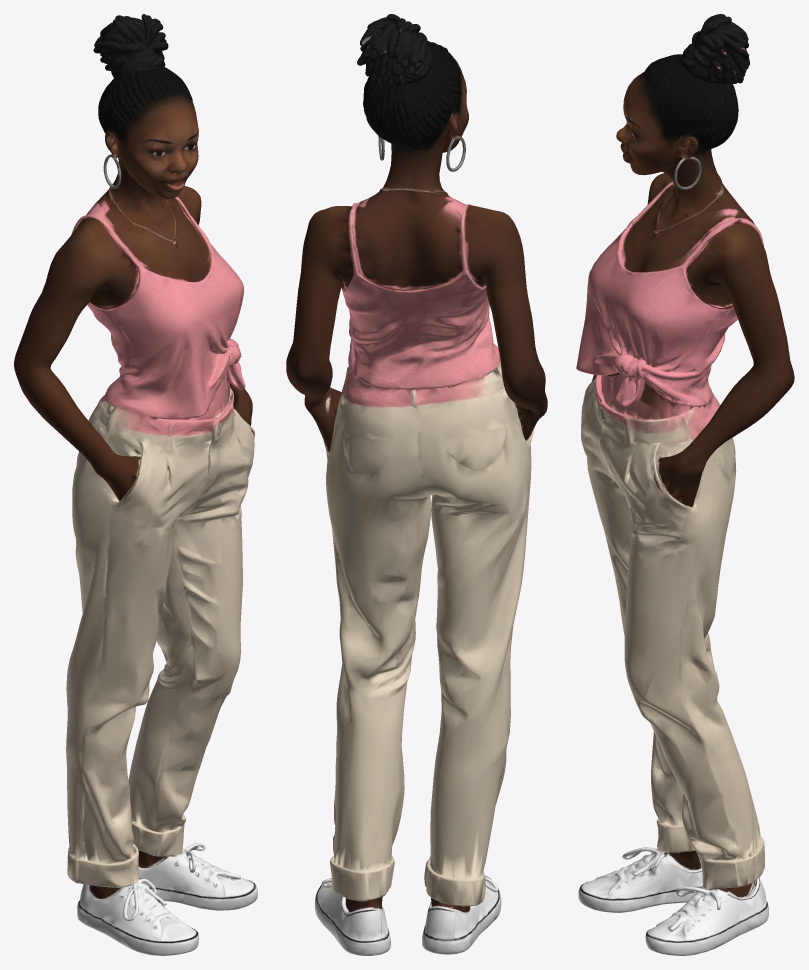
File: bermuda-npc-female.glb
3 renders of one model, left to right at view 1: azimuth 30°, elevation 25°; view 2: azimuth 150°, elevation 25°; view 3: azimuth 270°, elevation 25°, orthographic. The views are drawn at different scales.
Bounding box in the file's own units: 0.5067 × 1.9 × 0.4218.
Materials: 1 (1 with a texture image).
